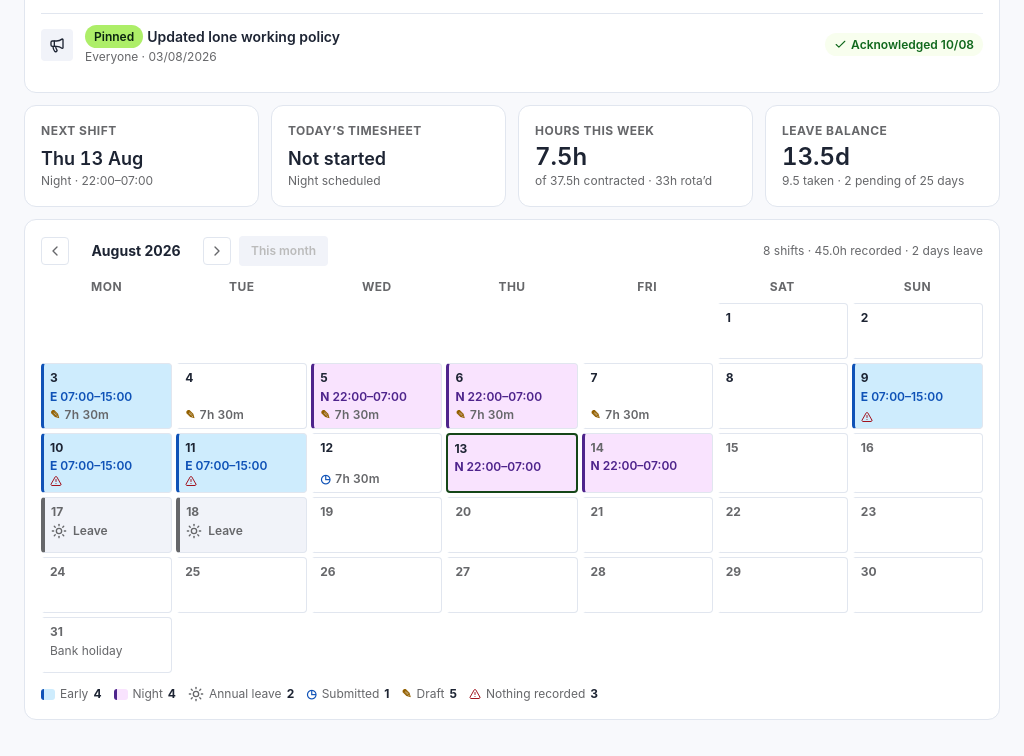
the day dialog says what is on the day and links to the page that owns it
(page scrolled)
Click the button "10 E 07:00–15:00". click: click(107, 463)
box: x1=41 y1=433 x2=172 y2=493
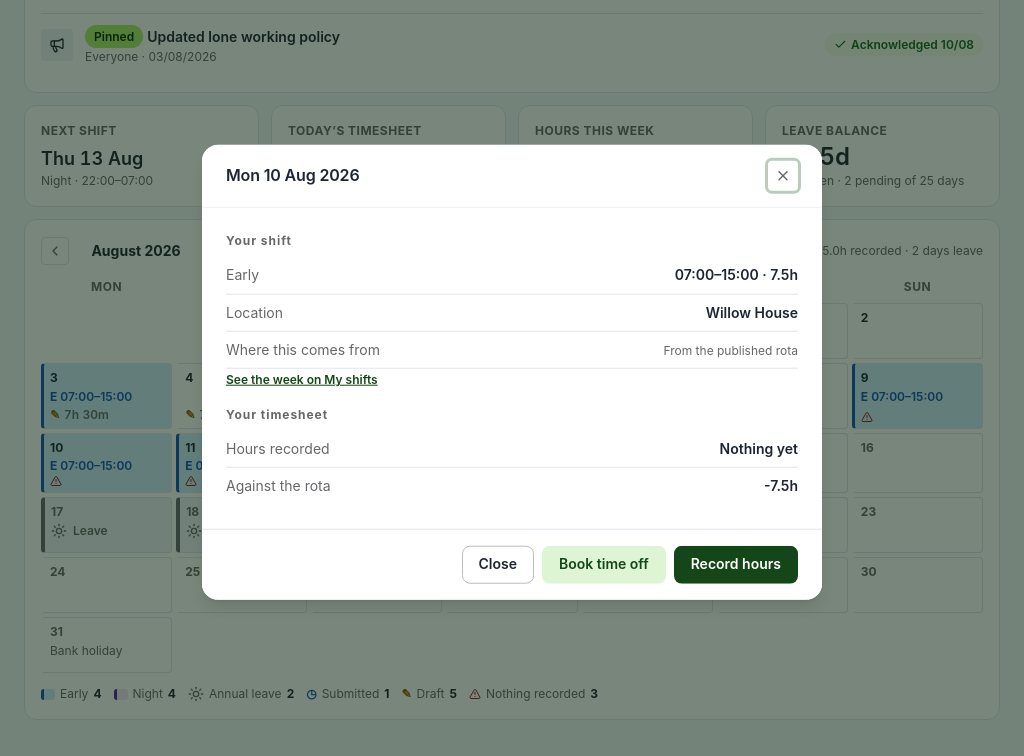
Expected: the heading with test id "modal-title" reads "Mon 10 Aug 2026", x1=226 y1=165 x2=360 y2=185
Expected: the text with test id "home-day-shift" reads "07:00–15:00 · 7.5h", x1=675 y1=266 x2=798 y2=283
Expected: the text "Early" is shown, x1=226 y1=265 x2=259 y2=285
Click the button with test id "home-day-close". click: click(498, 564)
box: x1=462 y1=545 x2=534 y2=583
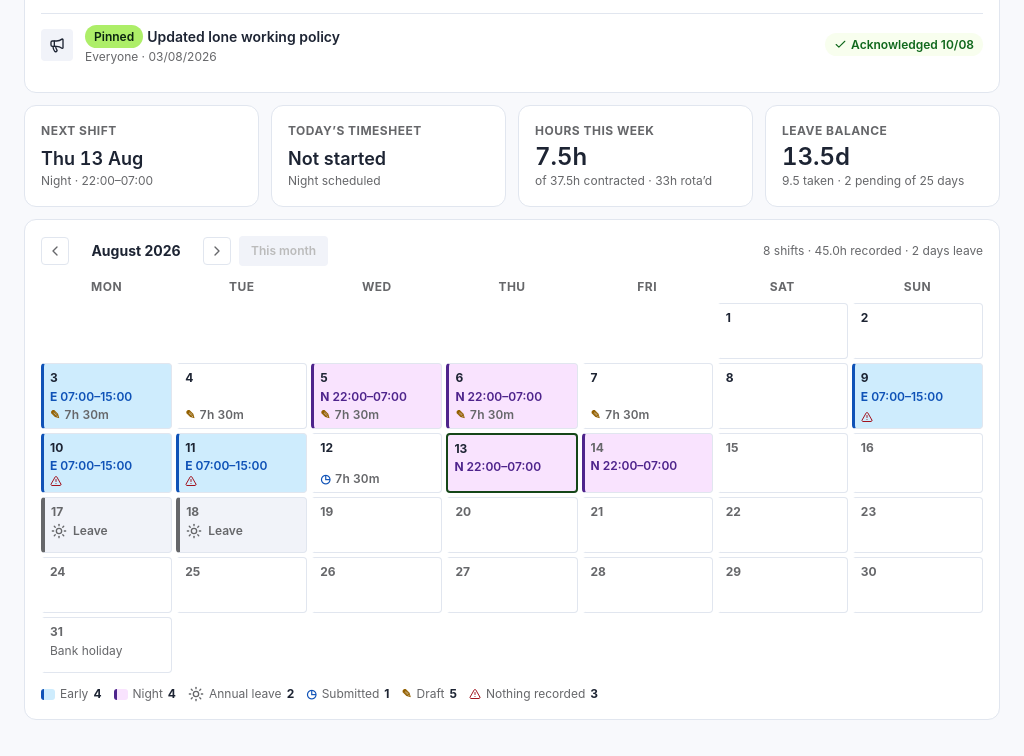
Expected: the dialog with test id "modal" is gone
Click the button "17 Leave". click: click(107, 525)
box: x1=41 y1=497 x2=172 y2=553
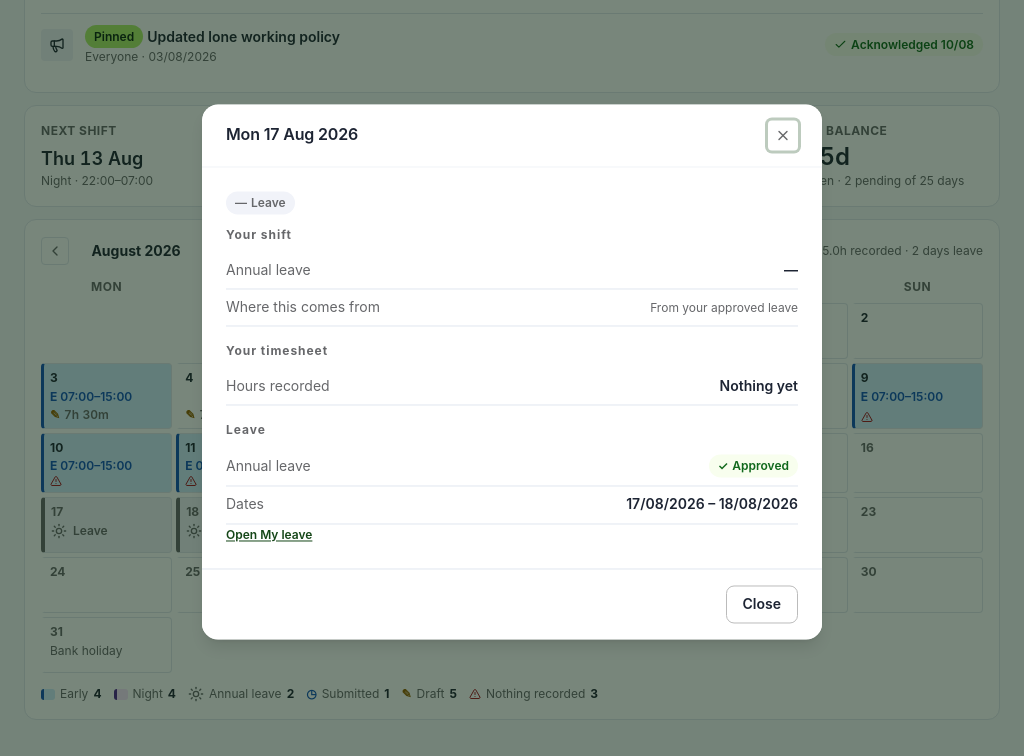
Expected: the element with test id "home-day-state" shows "Leave", x1=251 y1=196 x2=286 y2=210
Expected: the element with test id "home-day-source" reads "From your approved leave", x1=650 y1=300 x2=798 y2=315
Expected: the element with test id "home-day-leave" shows "Approved", x1=732 y1=459 x2=789 y2=474
Click the button with test id "home-day-close". click: click(762, 604)
box: x1=726 y1=586 x2=798 y2=624
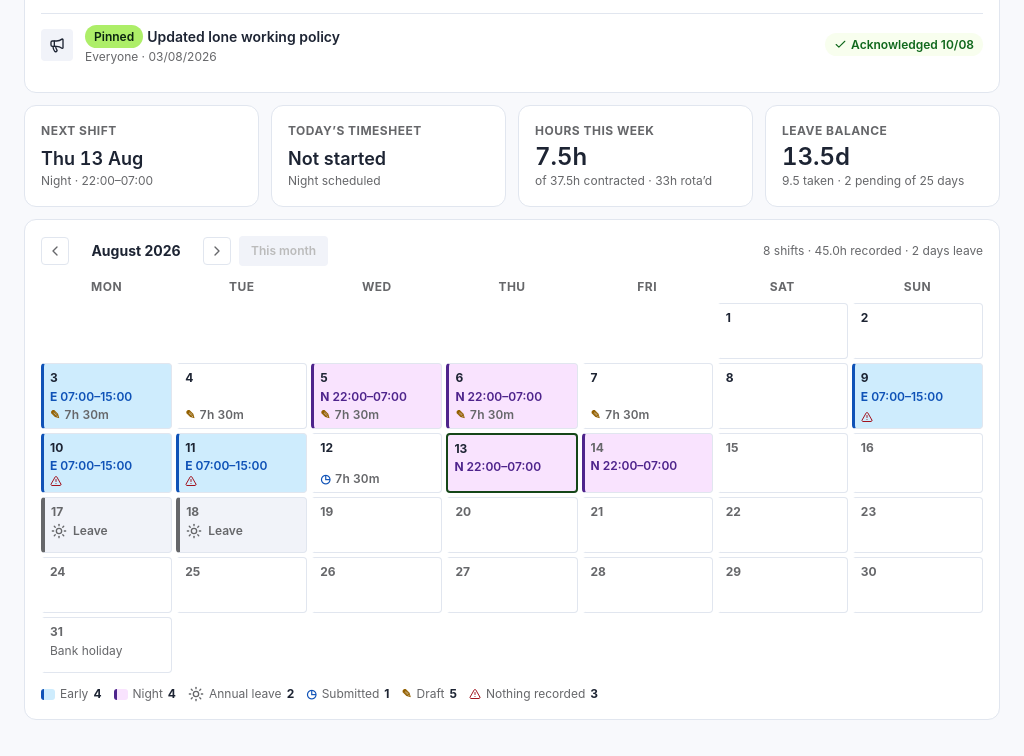
Expected: the dialog with test id "modal" is gone
Click the button "31 Bank holiday". click: click(107, 645)
box: x1=41 y1=617 x2=172 y2=673
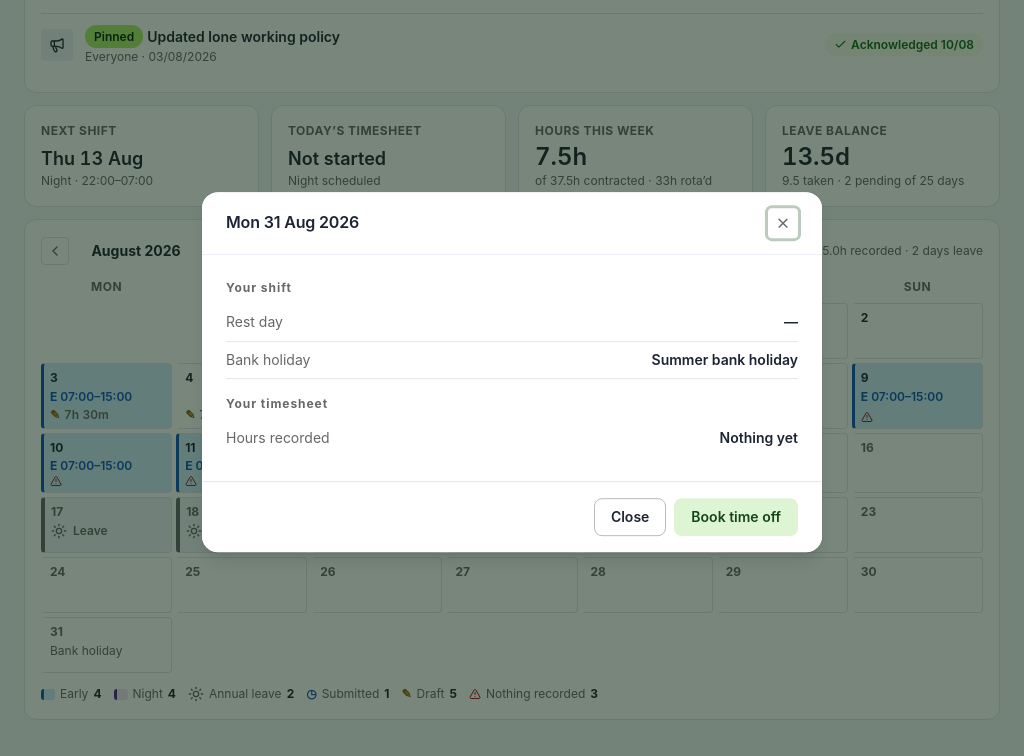
Expected: the text with test id "home-day-shift" reads "—", x1=784 y1=314 x2=798 y2=331
Expected: the text "Rest day" is shown, x1=226 y1=313 x2=283 y2=333
Expected: the text with test id "home-day-bank" reads "Summer bank holiday", x1=652 y1=351 x2=798 y2=368
